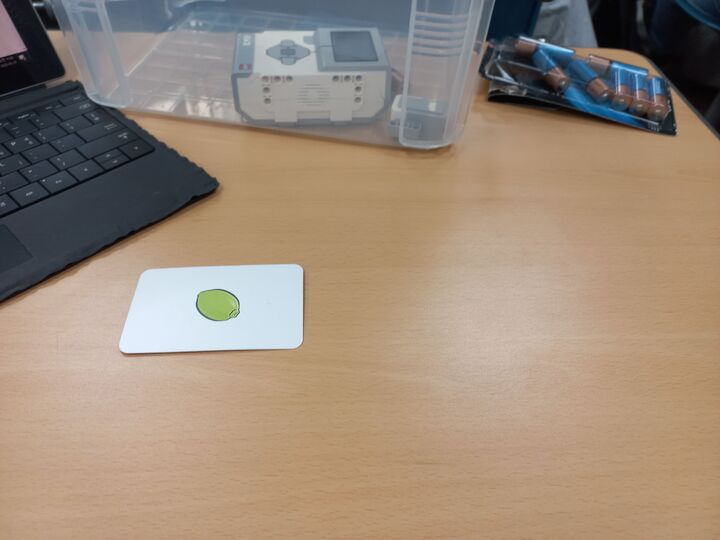lime1: (115, 263, 305, 355)
